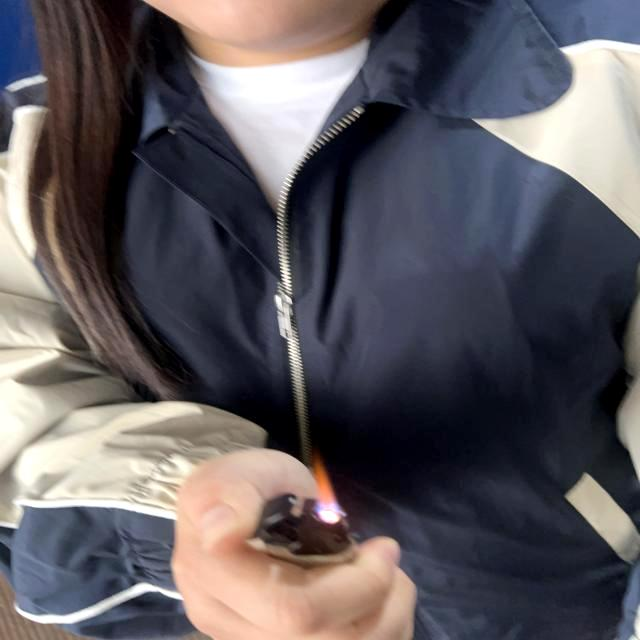fire: (310, 460, 342, 516)
